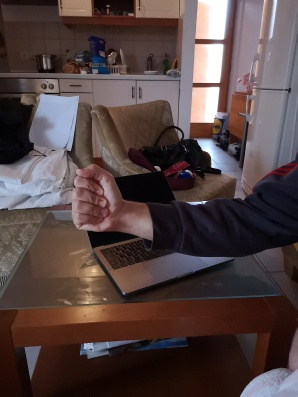A: (69, 160, 128, 238)
